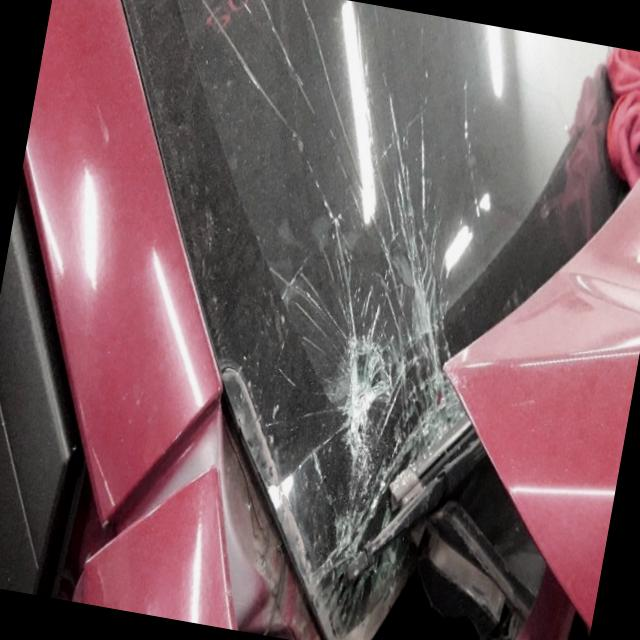Fissure: (251, 274, 484, 616), (410, 73, 528, 315)
